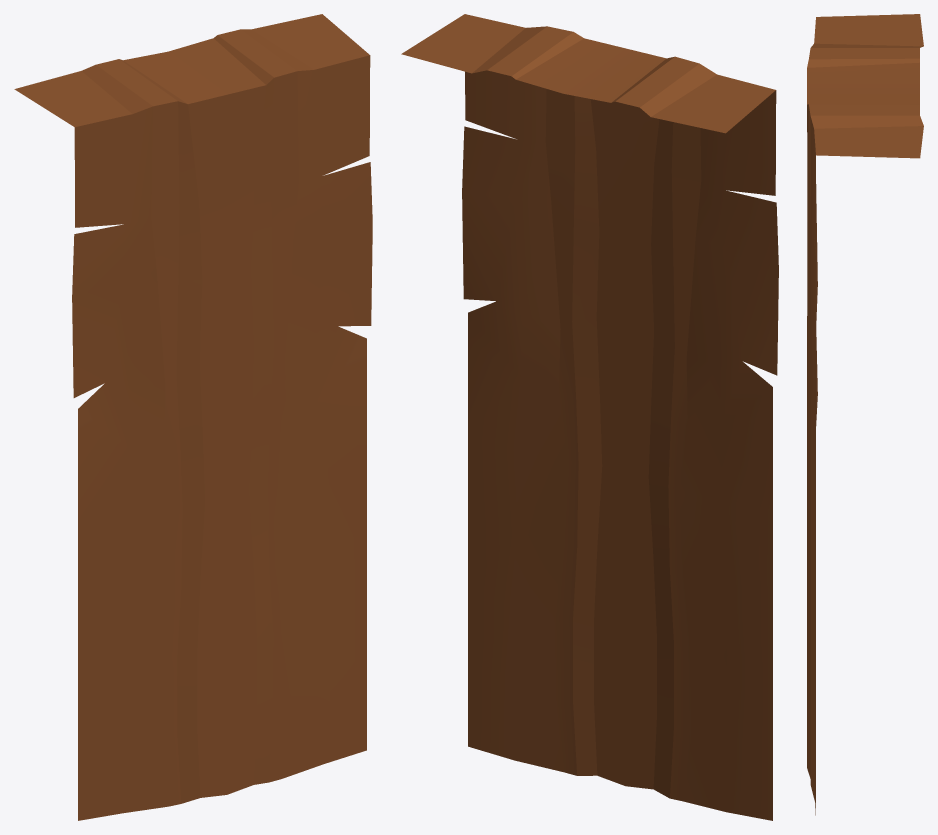
File: Flag_Wall.glb
3 views of the same model, side by side, from view 1: azimuth 30°, elevation 25°; view 2: azimuth 150°, elevation 25°; view 3: azimuth 270°, elevation 25° (orthographic). The views are drawn at different scales.
Parts seen in each view (by area): view 1: Flag_Wall; view 2: Flag_Wall; view 3: Flag_Wall.
Boxes of the visible parts, x1,y1,x2,y2 form: Flag_Wall: (14,14,372,820); Flag_Wall: (401,14,778,820); Flag_Wall: (807,14,923,815).
Bounding box in the file's own units: 0.9235 × 2.02 × 0.316.
